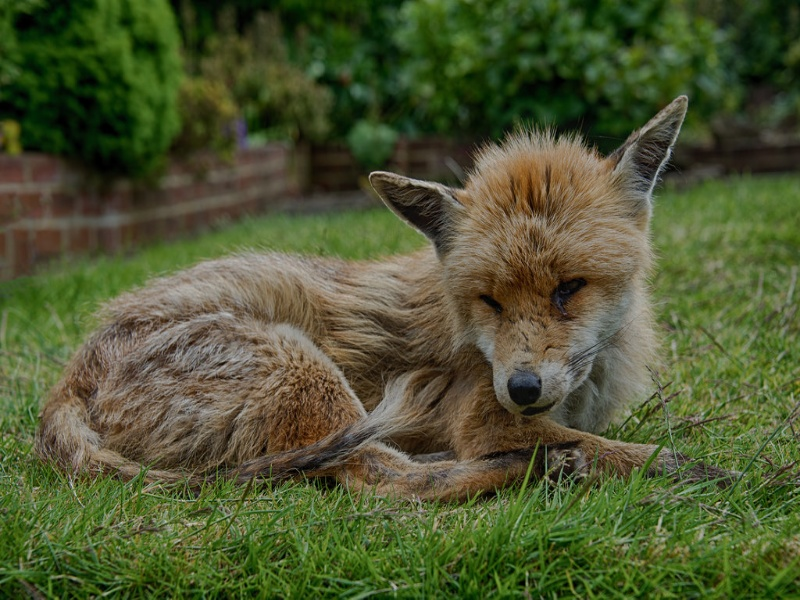fox: (35, 87, 732, 507)
